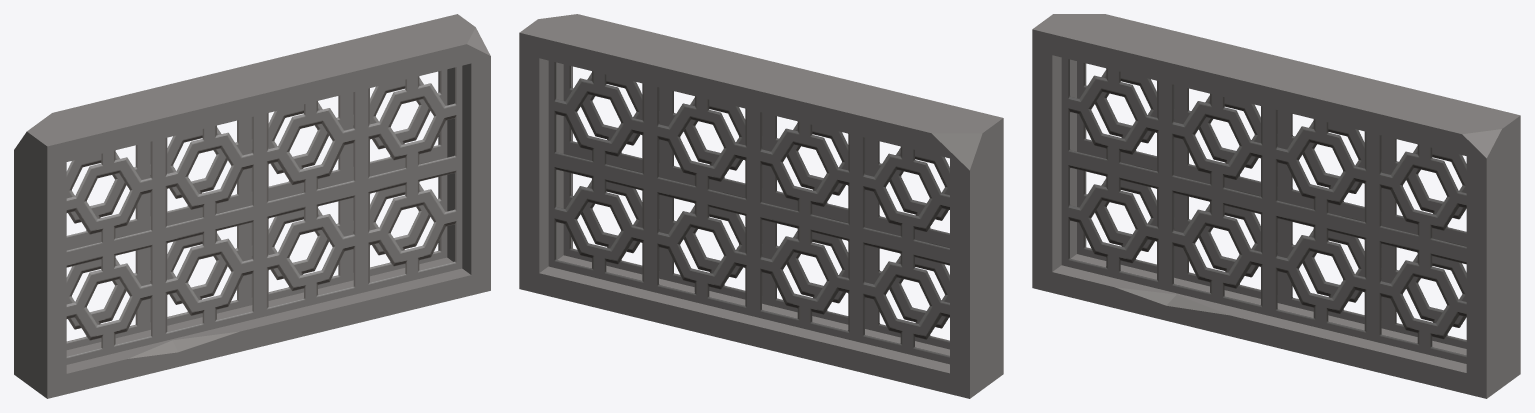
Rendered from SM_Bld_Decorative_Block_04.fbx.
The picture shows the model from 3 angles, left to right: view 1: azimuth 30°, elevation 25°; view 2: azimuth 150°, elevation 25°; view 3: azimuth 330°, elevation 25°; orthographic projection. The views are drawn at different scales.
Visible parts, largest first — view 1: SM_Bld_Decorative_Block_04; view 2: SM_Bld_Decorative_Block_04; view 3: SM_Bld_Decorative_Block_04.
Part boxes in pixels (box(x1,y1,x2,y2)): SM_Bld_Decorative_Block_04: box(14, 14, 490, 398); SM_Bld_Decorative_Block_04: box(519, 14, 1003, 398); SM_Bld_Decorative_Block_04: box(1032, 14, 1520, 398).
Size of the model in its own units: 182 by 98.98 by 23.56.
